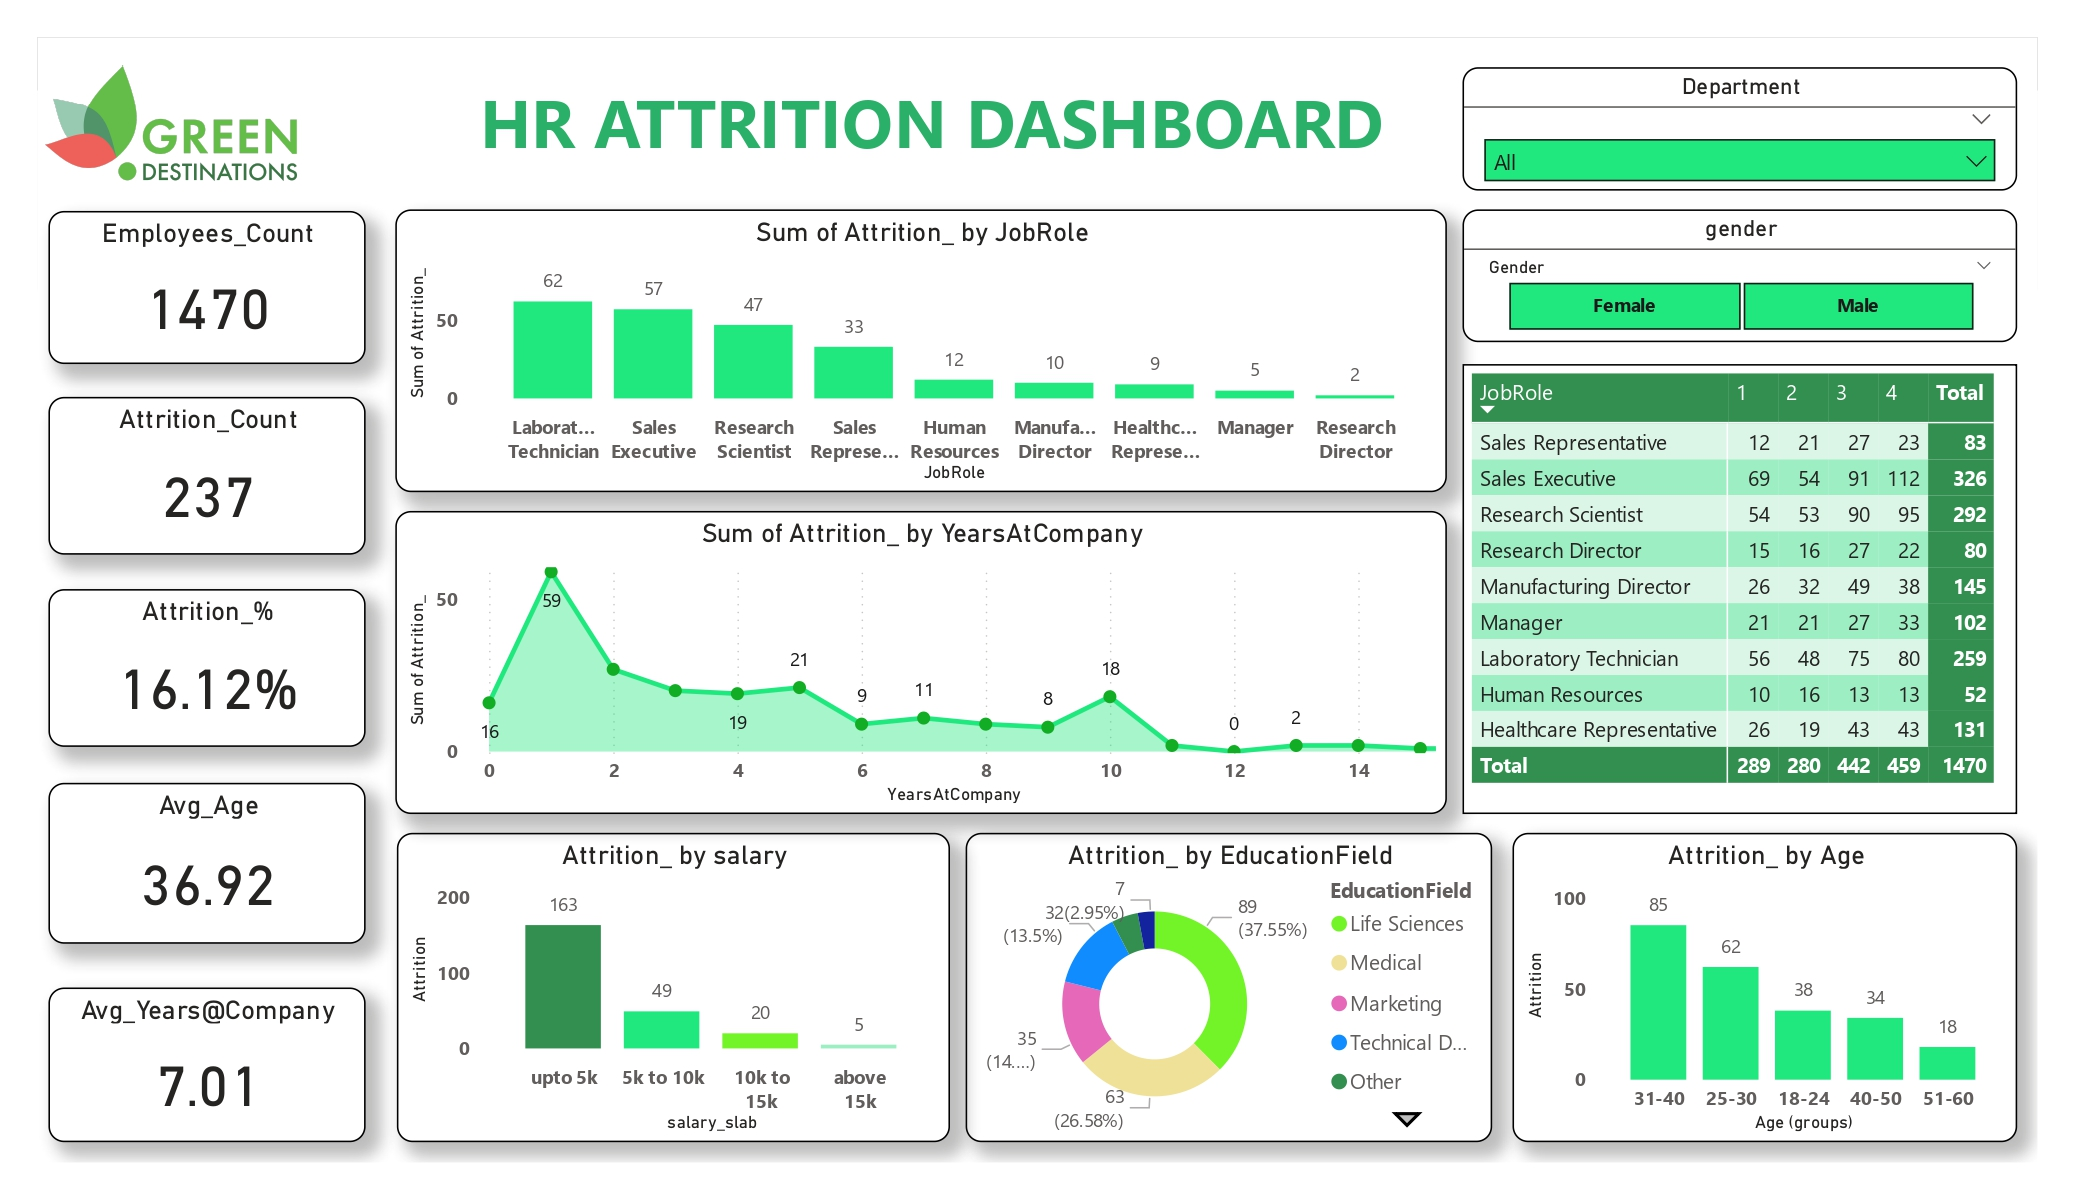

The dashboard page shown, as its layout file describes it:
{"tool":"powerbi","page":{"name":"Page 1","canvas":[1280,720],"ordinal":0},"visuals":[{"type":"card","title":"Attrition_Count","fields":{"Values":["Sum(greendestination (1).Attrition_)"]},"box":[7.2,230.4,202.7,100.1],"z":0},{"type":"card","title":"Employees_Count","fields":{"Values":["Sum(greendestination (1).EmployeeCount)"]},"box":[7.2,111,202.7,97.7],"z":1000},{"type":"card","title":"Attrition_%","fields":{"Values":["Measure.Attrition %"]},"box":[7.2,353.5,202.7,100.1],"z":2000},{"type":"card","title":"Avg_Age","fields":{"Values":["Avg(greendestination (1).Age)"]},"box":[7.2,476.5,202.7,103.8],"z":3000},{"type":"card","title":"Avg_Years@Company","fields":{"Values":["Avg(greendestination (1).YearsAtCompany)"]},"box":[7.2,608,202.7,98.9],"z":4000},{"type":"donutChart","title":"Attrition_ by EducationField","fields":{"Category":["greendestination (1).EducationField"],"Y":["Sum(greendestination (1).Attrition_)"]},"box":[594.2,508.9,336.9,198.1],"z":5000},{"type":"clusteredColumnChart","title":"Attrition_ by Age","fields":{"Y":["Sum(greendestination (1).Attrition_)"],"Category":["greendestination (1).Age (groups)"]},"box":[944.1,508.9,322.4,198.1],"z":6000},{"type":"clusteredColumnChart","title":"Attrition_ by salary","fields":{"Category":["greendestination (1).salary_slab"],"Y":["Sum(greendestination (1).Attrition_)"]},"box":[229.9,508.9,354.2,198.1],"z":7000},{"type":"clusteredColumnChart","fields":{"Y":["Sum(greendestination (1).Attrition_)"],"Category":["greendestination (1).JobRole"]},"box":[229.2,109.8,673.2,181],"z":8000},{"type":"areaChart","fields":{"Y":["Sum(greendestination (1).Attrition_)"],"Category":["greendestination (1).YearsAtCompany"]},"box":[229.2,302.8,673.2,194.2],"z":9000},{"type":"pivotTable","fields":{"Rows":["greendestination (1).JobRole"],"Columns":["greendestination (1).JobSatisfaction"],"Values":["Sum(greendestination (1).EmployeeCount)"]},"box":[912.1,208.7,354.7,288.3],"z":10000},{"type":"slicer","title":"gender","fields":{"Values":["greendestination (1).Gender"]},"box":[912.1,109.8,354.7,85.7],"z":11000},{"type":"image","box":[0,0,170.6,109.9],"z":12000},{"type":"textbox","box":[193.7,18.8,772,79.5],"z":13000},{"type":"slicer","title":"Department","fields":{"Values":["greendestination (1).Department"]},"box":[912.1,19.3,354.7,78.4],"z":14000}]}

Visuals, with their boxes in screenshot pixels (x1, y1, x2, y2):
"Attrition_Count" card: (left=49, top=398, right=365, bottom=554)
"Employees_Count" card: (left=49, top=211, right=365, bottom=364)
"Attrition_%" card: (left=49, top=590, right=365, bottom=746)
"Avg_Age" card: (left=49, top=782, right=365, bottom=944)
"Avg_Years@Company" card: (left=49, top=988, right=365, bottom=1142)
"Attrition_ by EducationField" donutChart: (left=966, top=833, right=1492, bottom=1142)
"Attrition_ by Age" clusteredColumnChart: (left=1513, top=833, right=2016, bottom=1142)
"Attrition_ by salary" clusteredColumnChart: (left=397, top=833, right=950, bottom=1142)
clusteredColumnChart - Sum(greendestination (1).Attrition_) x greendestination (1).JobRole: (left=396, top=209, right=1448, bottom=492)
areaChart - Sum(greendestination (1).Attrition_) x greendestination (1).YearsAtCompany: (left=396, top=511, right=1448, bottom=814)
pivotTable - greendestination (1).JobRole x greendestination (1).JobSatisfaction: (left=1463, top=364, right=2017, bottom=814)
"gender" slicer: (left=1463, top=209, right=2017, bottom=343)
image: (left=38, top=38, right=304, bottom=209)
textbox: (left=340, top=67, right=1546, bottom=191)
"Department" slicer: (left=1463, top=68, right=2017, bottom=190)
